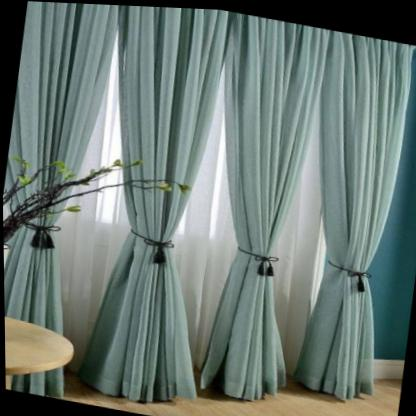Curtains: (71, 2, 235, 412), (183, 9, 330, 404), (282, 25, 416, 404), (0, 0, 120, 330)
